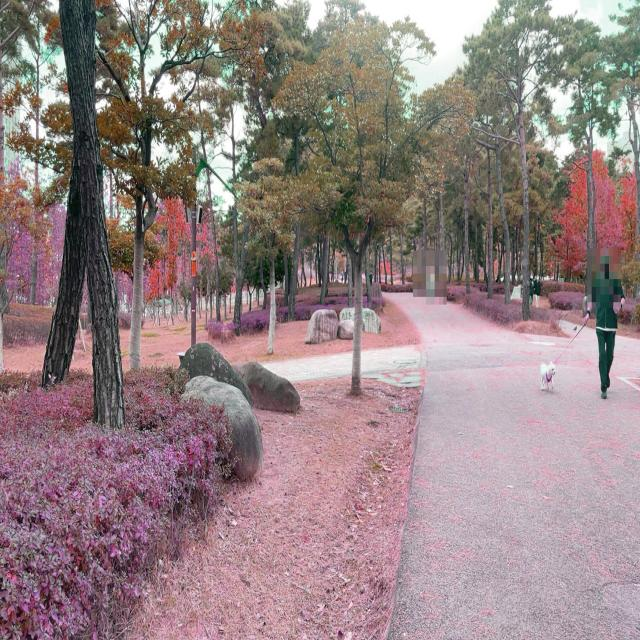Leashed_Dog: (540, 308, 602, 392)
